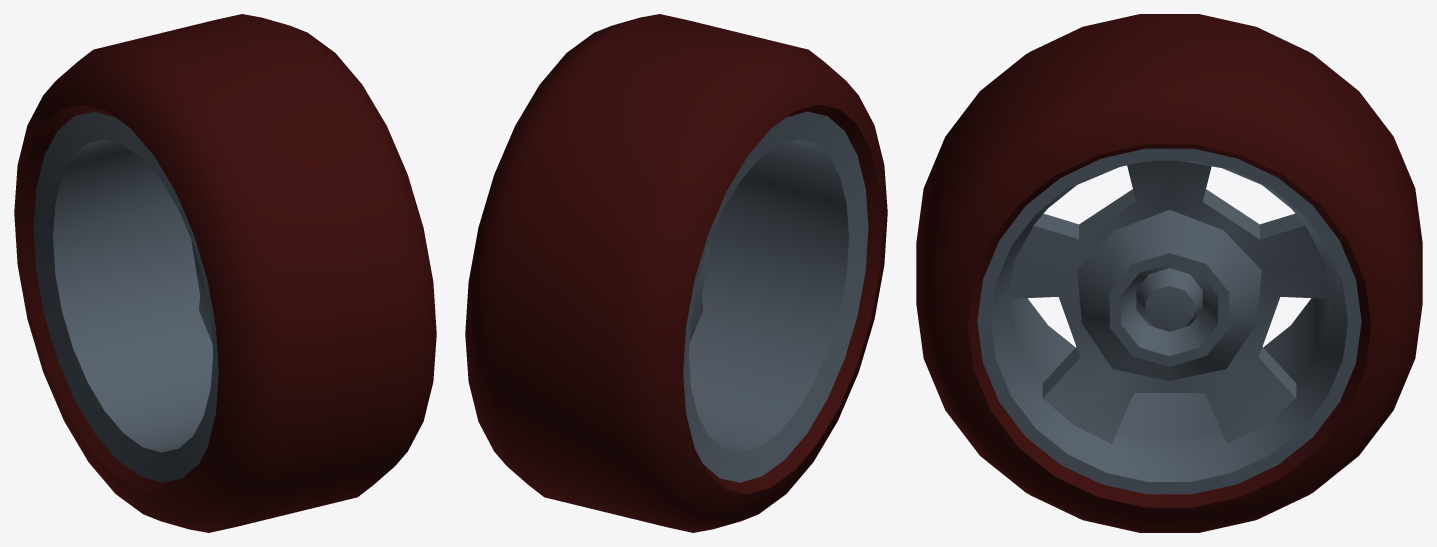
3 views of the same model, side by side, from view 1: azimuth 30°, elevation 25°; view 2: azimuth 150°, elevation 25°; view 3: azimuth 270°, elevation 25° (orthographic).
Visible parts, largest first — view 1: W3A; view 2: W3A; view 3: W3A.
Boxes of the visible parts, box(x1,y1,x2,y2) form: W3A: box(14, 14, 436, 532); W3A: box(465, 14, 887, 532); W3A: box(916, 14, 1422, 532).
Bounding box in the file's own units: 14.02 × 28.35 × 28.56.
